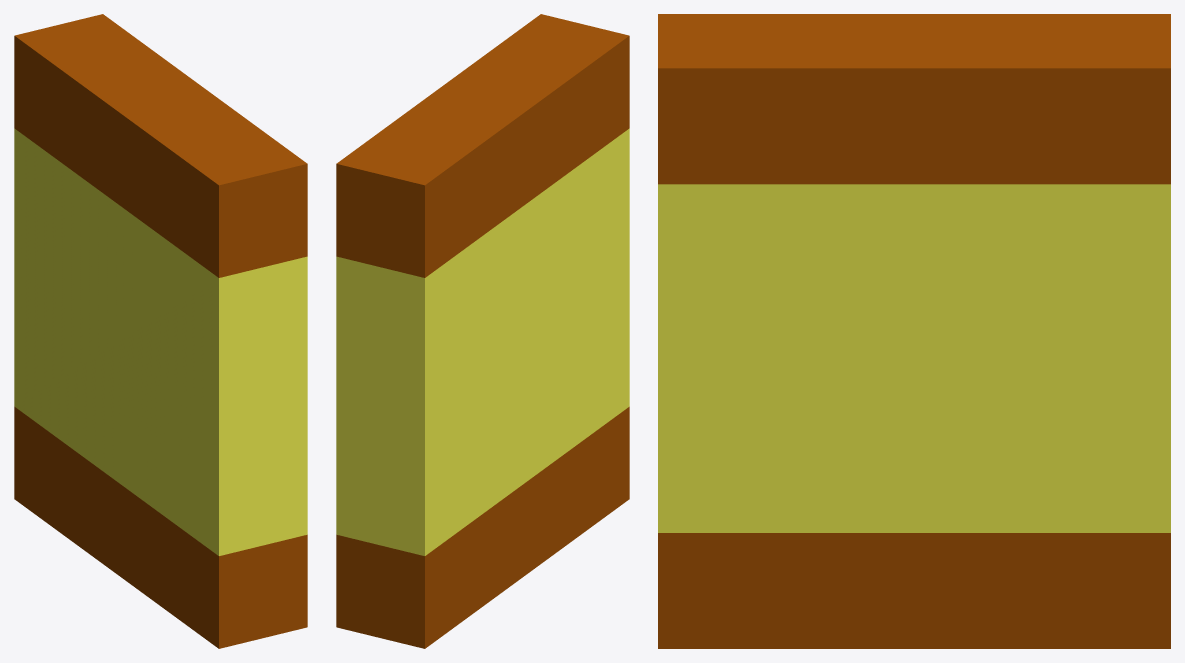
File: fenceconnector.obj
The picture shows the model from 3 angles, left to right: view 1: azimuth 30°, elevation 25°; view 2: azimuth 150°, elevation 25°; view 3: azimuth 270°, elevation 25°; orthographic projection. The views are drawn at different scales.
Size of the model in its own units: 0.1 by 0.5 by 0.4.
1 material, 1 textured.
